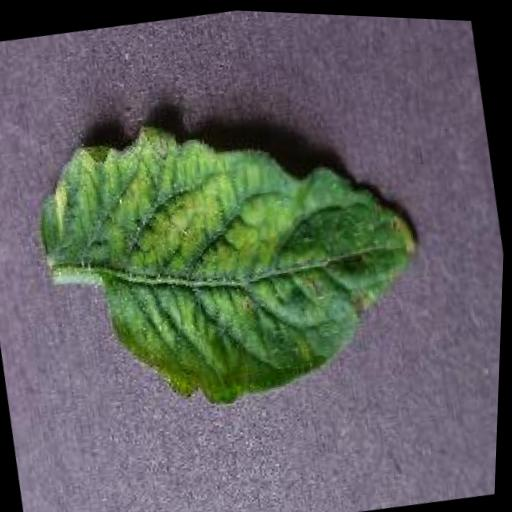Mosaic Virus: (20, 71, 450, 444)
